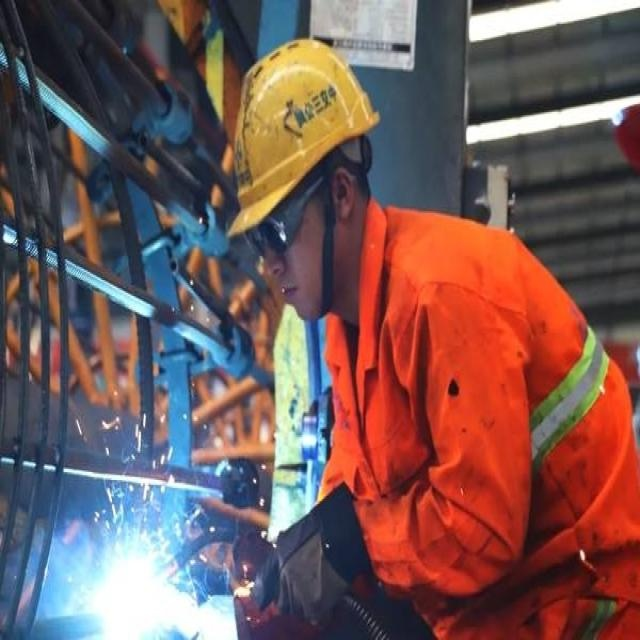Con_Casco: (228, 39, 376, 319)
